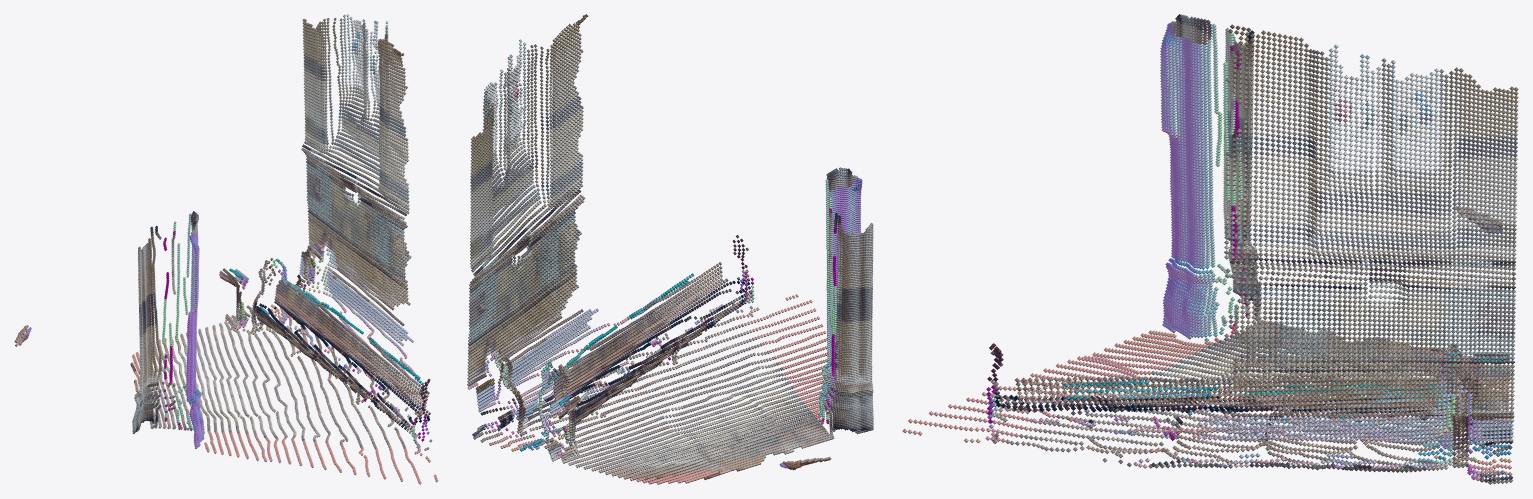
File: combine_gt.glb
3 renders of one model, left to right at view 1: azimuth 30°, elevation 25°; view 2: azimuth 150°, elevation 25°; view 3: azimuth 270°, elevation 25°, orthographic. The views are drawn at different scales.
Parts seen in each view (by area): view 1: world; view 2: world; view 3: world.
Part boxes in pixels (x1=…): world: x1=14, y1=14, x2=438, y2=484; world: x1=467, y1=14, x2=873, y2=484; world: x1=902, y1=14, x2=1518, y2=484.
Size of the model in its own units: 6.02 by 5.65 by 6.81.
